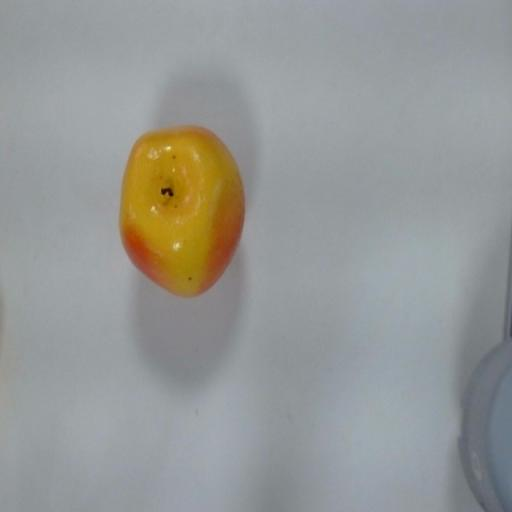Ripe: (117, 121, 248, 302)
